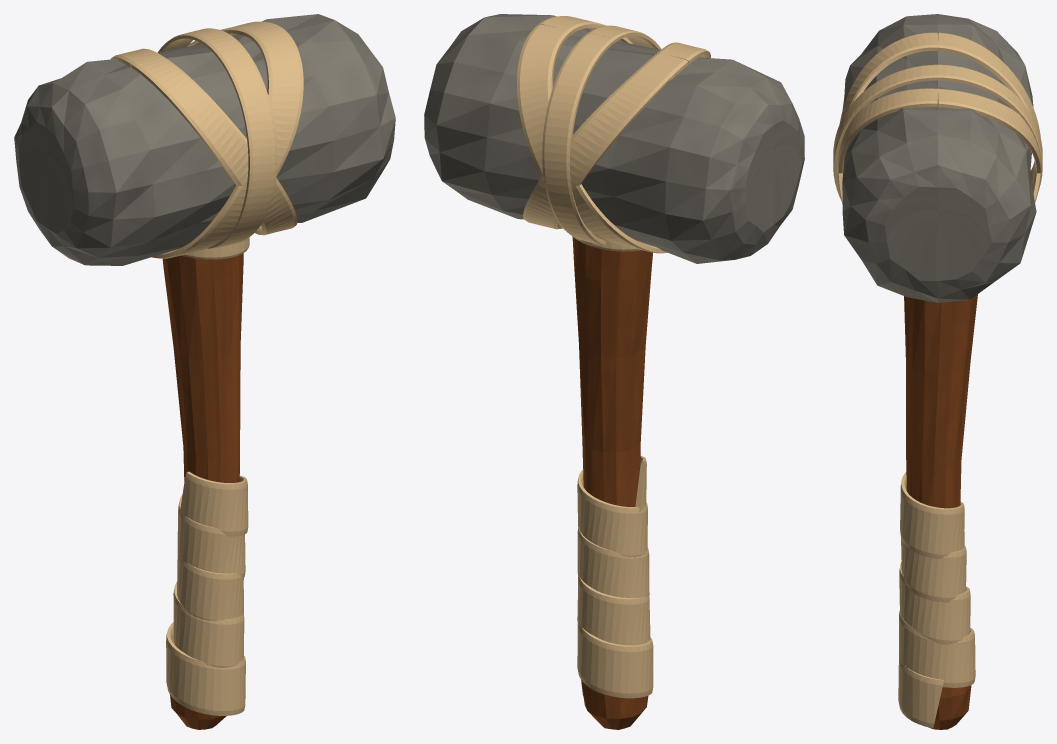
File: primitive_stone_hammer.glb
The picture shows the model from 3 angles, left to right: view 1: azimuth 30°, elevation 25°; view 2: azimuth 150°, elevation 25°; view 3: azimuth 270°, elevation 25°; orthographic projection. The views are drawn at different scales.
Visible parts, largest first — view 1: Faceted blunt stone hammer head, Grip overlapping hide winding, Carved crooked wooden handle, Central head retaining strap, Crossed stone head rawhide strap -1, Crossed stone head rawhide strap 1, Neck securing hide collar; view 2: Faceted blunt stone hammer head, Carved crooked wooden handle, Grip overlapping hide winding, Central head retaining strap, Crossed stone head rawhide strap -1, Crossed stone head rawhide strap 1; view 3: Faceted blunt stone hammer head, Grip overlapping hide winding, Carved crooked wooden handle, Crossed stone head rawhide strap 1, Crossed stone head rawhide strap -1, Central head retaining strap.
Boxes of the visible parts, bbox=[...] form: Faceted blunt stone hammer head: bbox=[14, 14, 395, 265]; Grip overlapping hide winding: bbox=[166, 471, 248, 715]; Carved crooked wooden handle: bbox=[162, 253, 243, 729]; Central head retaining strap: bbox=[158, 28, 277, 248]; Crossed stone head rawhide strap -1: bbox=[110, 48, 297, 235]; Crossed stone head rawhide strap 1: bbox=[152, 21, 303, 258]; Neck securing hide collar: bbox=[181, 237, 249, 259]; Faceted blunt stone hammer head: bbox=[424, 14, 804, 263]; Carved crooked wooden handle: bbox=[572, 237, 652, 729]; Grip overlapping hide winding: bbox=[577, 456, 653, 698]; Central head retaining strap: bbox=[542, 25, 661, 245]; Crossed stone head rawhide strap -1: bbox=[523, 42, 710, 229]; Crossed stone head rawhide strap 1: bbox=[517, 16, 667, 253]; Faceted blunt stone hammer head: bbox=[842, 14, 1036, 302]; Grip overlapping hide winding: bbox=[898, 472, 975, 728]; Carved crooked wooden handle: bbox=[904, 294, 977, 729]; Crossed stone head rawhide strap 1: bbox=[837, 88, 1041, 181]; Crossed stone head rawhide strap -1: bbox=[837, 32, 1041, 204]; Central head retaining strap: bbox=[833, 64, 1042, 200].
Size of the model in its own units: 0.407 by 0.837 by 0.24.
3 materials, 2 textured.
